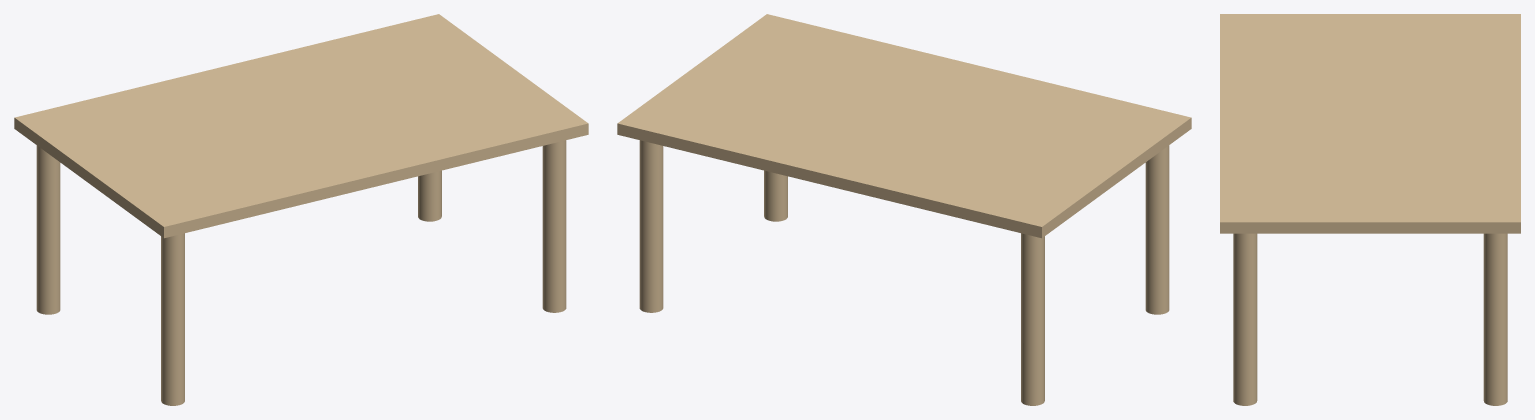
File: ikea-valnas-20628038-g2-proxy.glb
The picture shows the model from 3 angles, left to right: view 1: azimuth 30°, elevation 25°; view 2: azimuth 150°, elevation 25°; view 3: azimuth 270°, elevation 25°; orthographic projection.
Visible parts, largest first — view 1: proxy_body, leg (×4); view 2: proxy_body, leg (×4); view 3: proxy_body, leg (×2).
Boxes of the visible parts, x1,y1,x2,y2 form: proxy_body: (14,14,588,238); leg (×4): (36,140,566,405); proxy_body: (617,14,1191,238); leg (×4): (639,140,1169,405); proxy_body: (1220,14,1520,233); leg (×2): (1233,233,1507,405).
Bounding box in the file's own units: 1.18 × 0.5 × 0.72.
